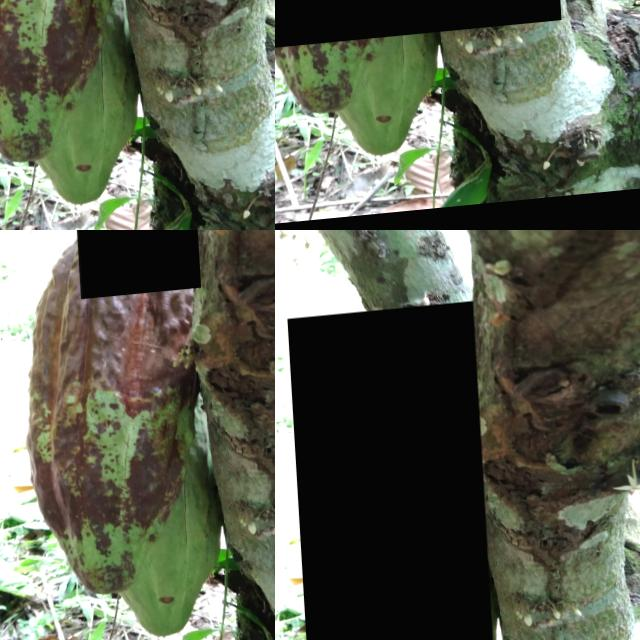Fitoftora: (285, 309, 488, 640), (275, 0, 555, 56)
Sana: (67, 230, 198, 304)
